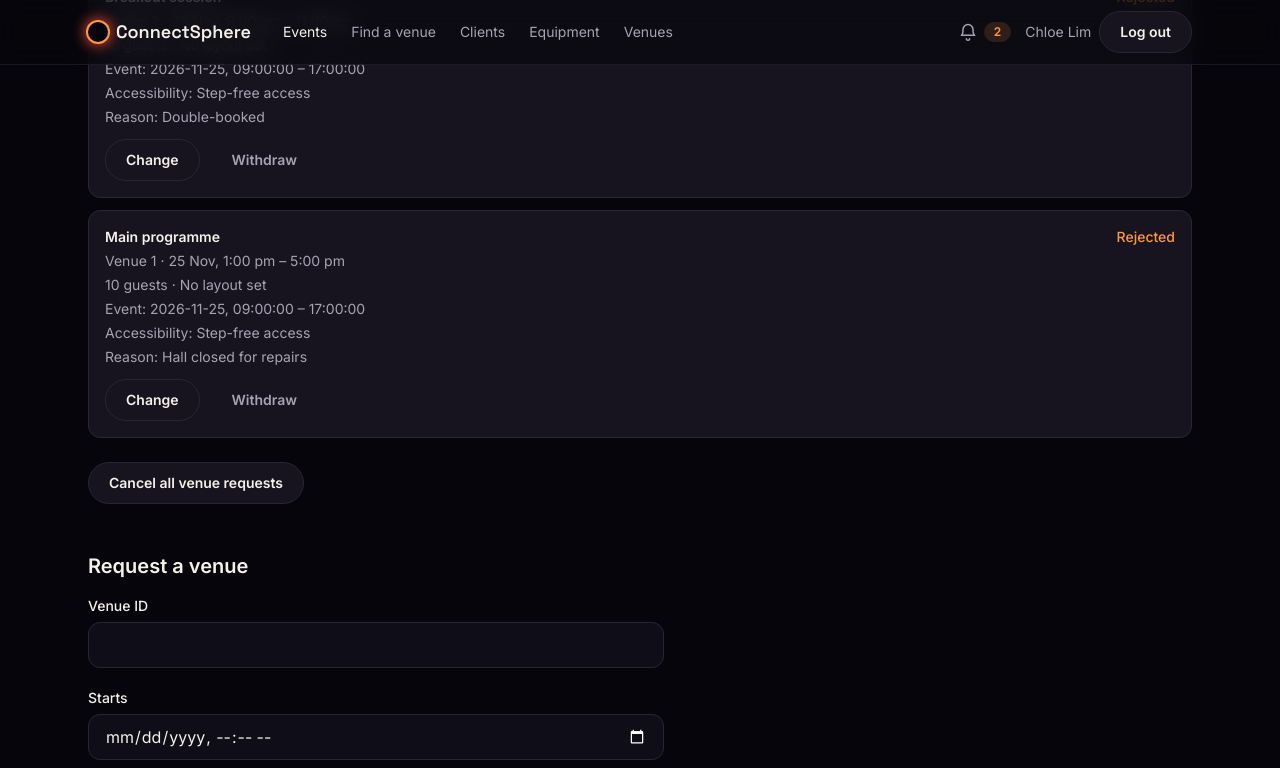
Test: SCRUM-93 venue arrangements on the venue requests page › shows the backend’s refusal, such as one naming the event’s status, in the arrangement it was about
The width and height of the screenshot is (1280, 768).
(page scrolled)
Click the button "Withdraw" below "Main programme".
click(264, 400)  # box [212,379,317,421]
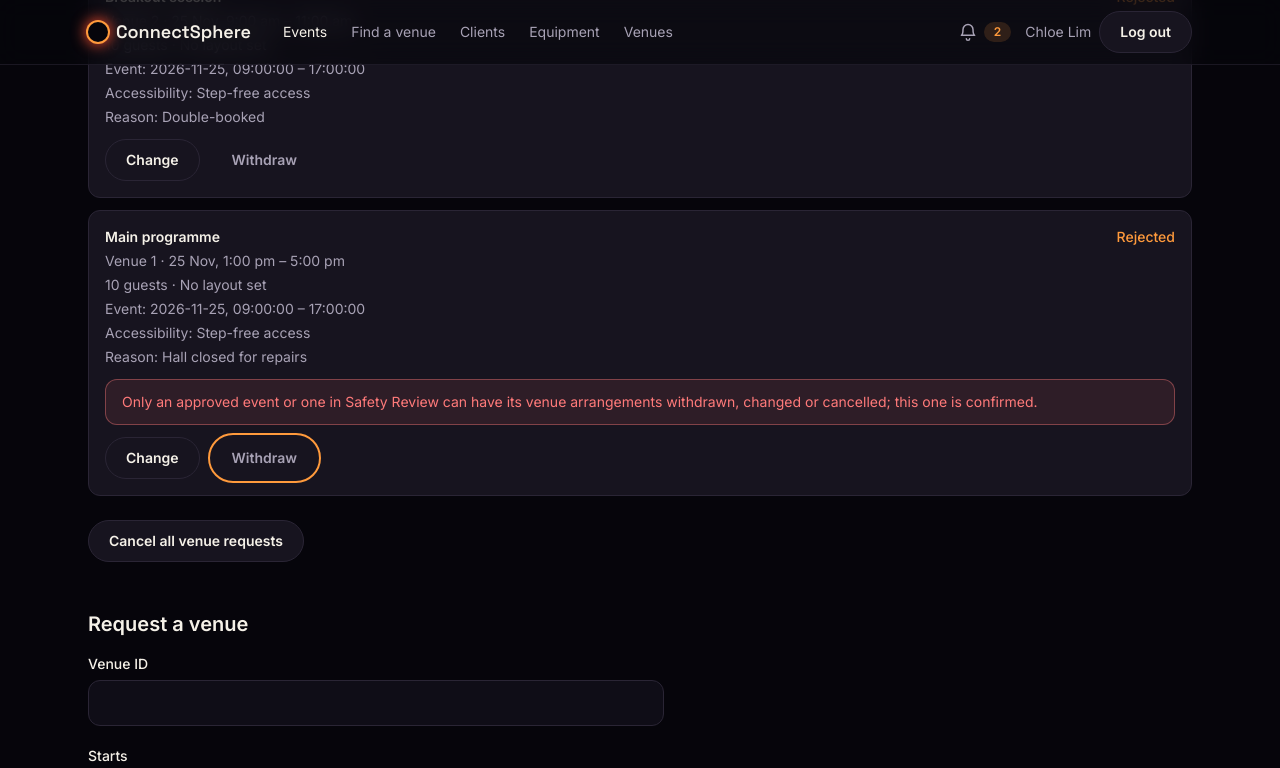
Expected: the message shows "Only an approved event or one in Safety Review can have its venue arrangements withdrawn, changed or cancelled; this one is confirmed.", [122,393,1038,410]
